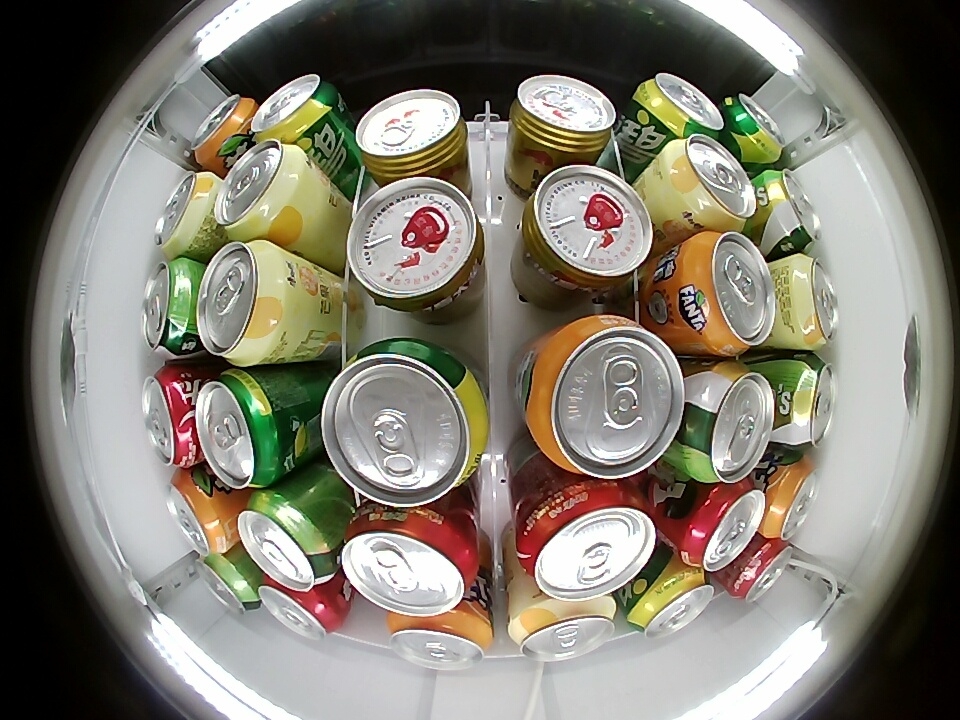fenda: (521, 316, 686, 480), (680, 231, 776, 355), (387, 610, 493, 671), (165, 468, 230, 557), (762, 456, 820, 541), (189, 93, 255, 167)
hongniu: (346, 177, 486, 314), (520, 164, 653, 291)
hongniu2: (354, 88, 468, 180), (509, 74, 617, 159)
kele: (515, 481, 657, 601), (340, 506, 478, 616), (678, 482, 765, 570), (141, 366, 199, 467), (259, 582, 343, 639), (730, 539, 794, 602)
mangguoxiaolao: (195, 239, 292, 367), (215, 141, 311, 241), (661, 135, 756, 230), (508, 596, 617, 662), (153, 171, 218, 257), (781, 254, 839, 350)
quchenshixiangcao: (684, 360, 775, 483), (237, 490, 337, 590), (141, 259, 199, 358), (760, 168, 822, 254), (784, 350, 837, 449), (195, 553, 261, 616)
xuebi2: (320, 338, 489, 506), (197, 368, 293, 489), (626, 565, 715, 639), (253, 74, 344, 145), (632, 73, 723, 140), (722, 93, 785, 164)
